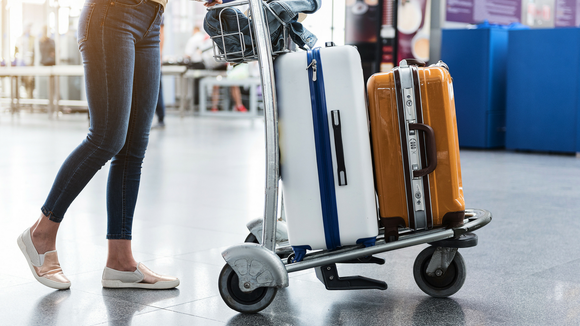luggage: (275, 53, 381, 258), (370, 62, 490, 237)
